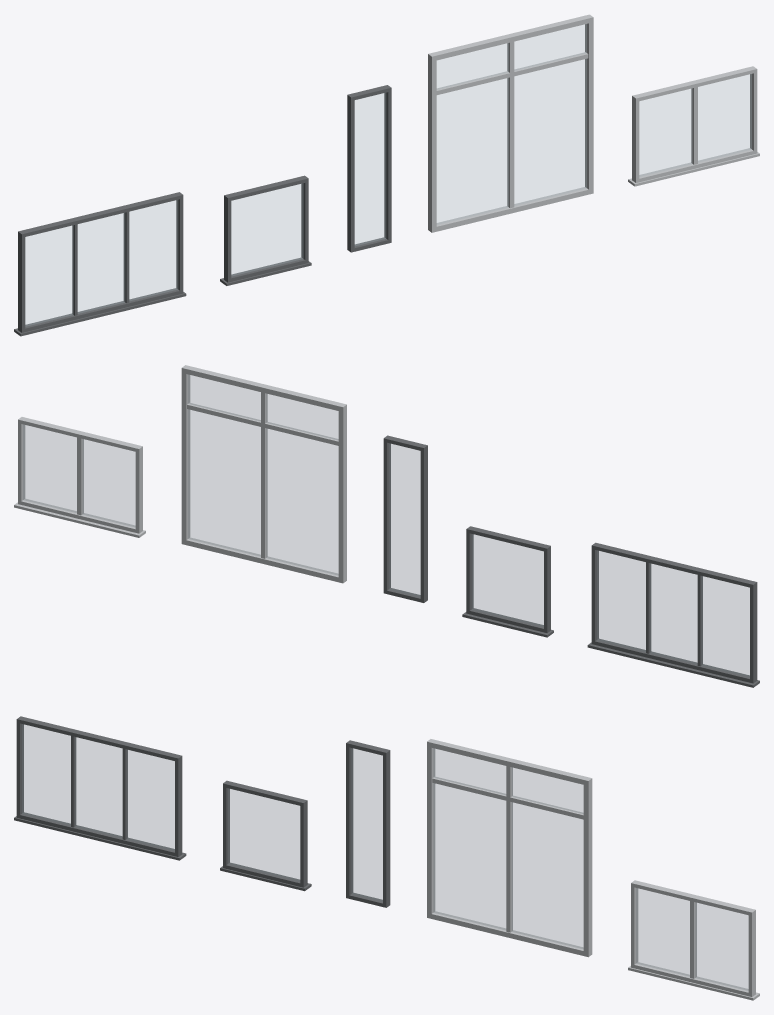
Rendered from mlo_windows_modern.glb.
3 views of the same model, one above another, from view 1: azimuth 30°, elevation 25°; view 2: azimuth 150°, elevation 25°; view 3: azimuth 330°, elevation 25° (orthographic).
Visible parts, largest first — view 1: Shopfront, Modern_Wide_Three, Aluminium_Sliding, Modern_Square, Modern_Tall_Slim; view 2: Shopfront, Modern_Wide_Three, Aluminium_Sliding, Modern_Square, Modern_Tall_Slim; view 3: Shopfront, Modern_Wide_Three, Aluminium_Sliding, Modern_Square, Modern_Tall_Slim.
Part boxes in pixels (box(x1,y1,x2,y2)): Shopfront: box(428, 14, 593, 232); Modern_Wide_Three: box(14, 192, 186, 336); Aluminium_Sliding: box(628, 66, 759, 186); Modern_Square: box(220, 175, 311, 285); Modern_Tall_Slim: box(347, 85, 391, 252); Shopfront: box(181, 365, 346, 583); Modern_Wide_Three: box(587, 542, 759, 687); Aluminium_Sliding: box(14, 417, 145, 537); Modern_Square: box(462, 526, 553, 637); Modern_Tall_Slim: box(383, 435, 427, 602); Shopfront: box(427, 739, 592, 957); Modern_Wide_Three: box(14, 716, 186, 860); Aluminium_Sliding: box(628, 880, 759, 1000); Modern_Square: box(220, 780, 311, 891); Modern_Tall_Slim: box(346, 740, 390, 907).
Size of the model in its own units: 10.98 by 2.54 by 0.17.
